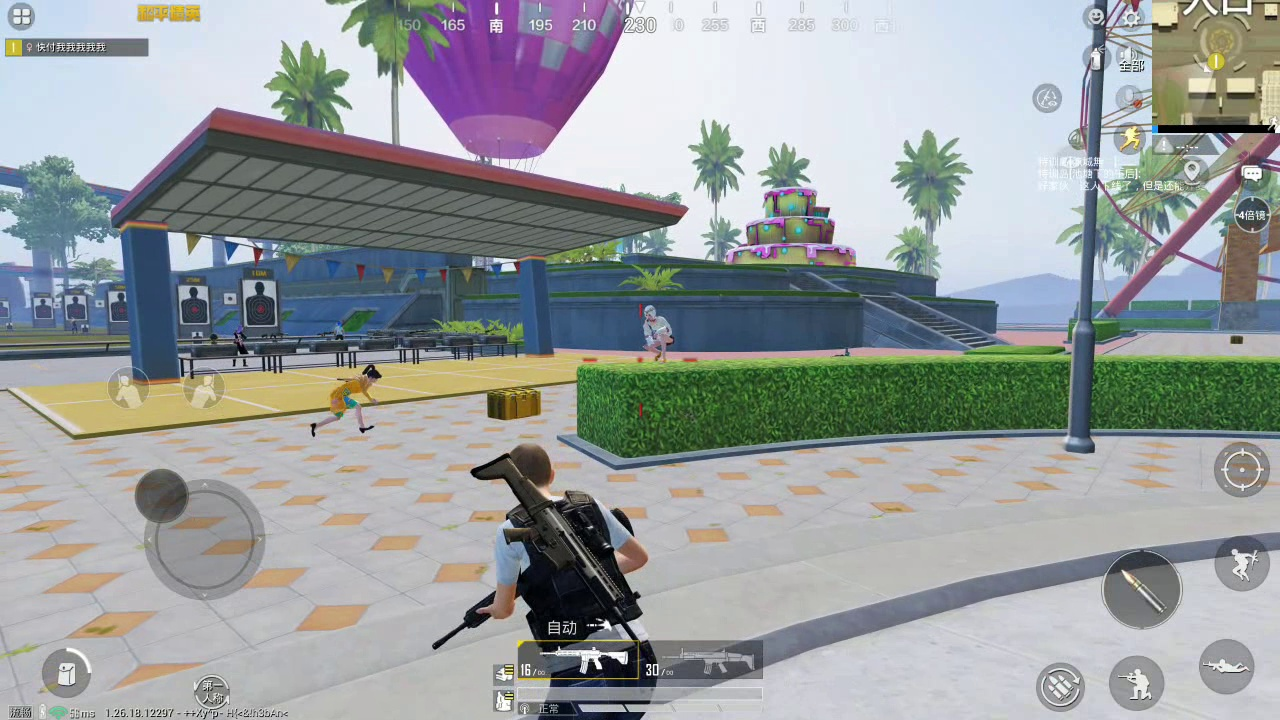enemy: (310, 366, 382, 436), (641, 304, 675, 362), (231, 325, 250, 367), (332, 320, 346, 340)
